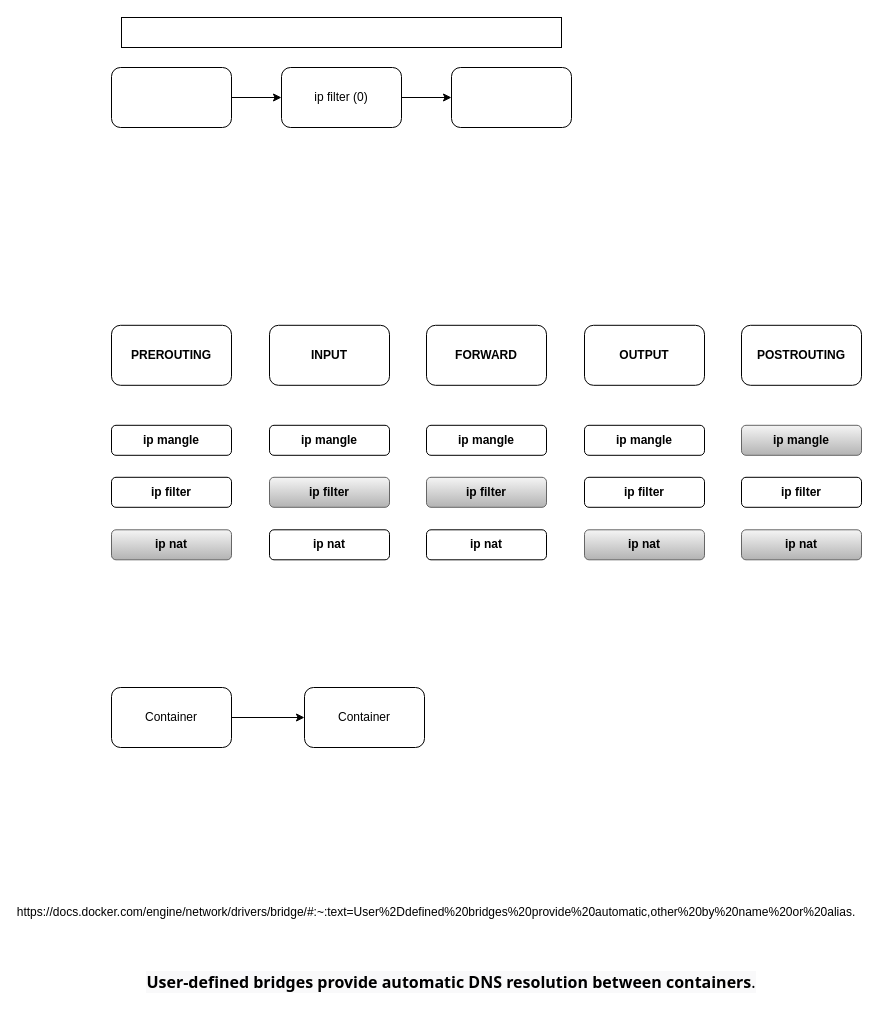
Image size: 888x1015. Some labels were removed from this diagram. The shapes that lost their labels are listed below. From the top down, each one's centre as x and y in pixels, then its label:
(x=341, y=32): Chains with same hook value are traversed in this order
(x=171, y=97): ip mangle (-150)
(x=511, y=97): ip nat (100)
